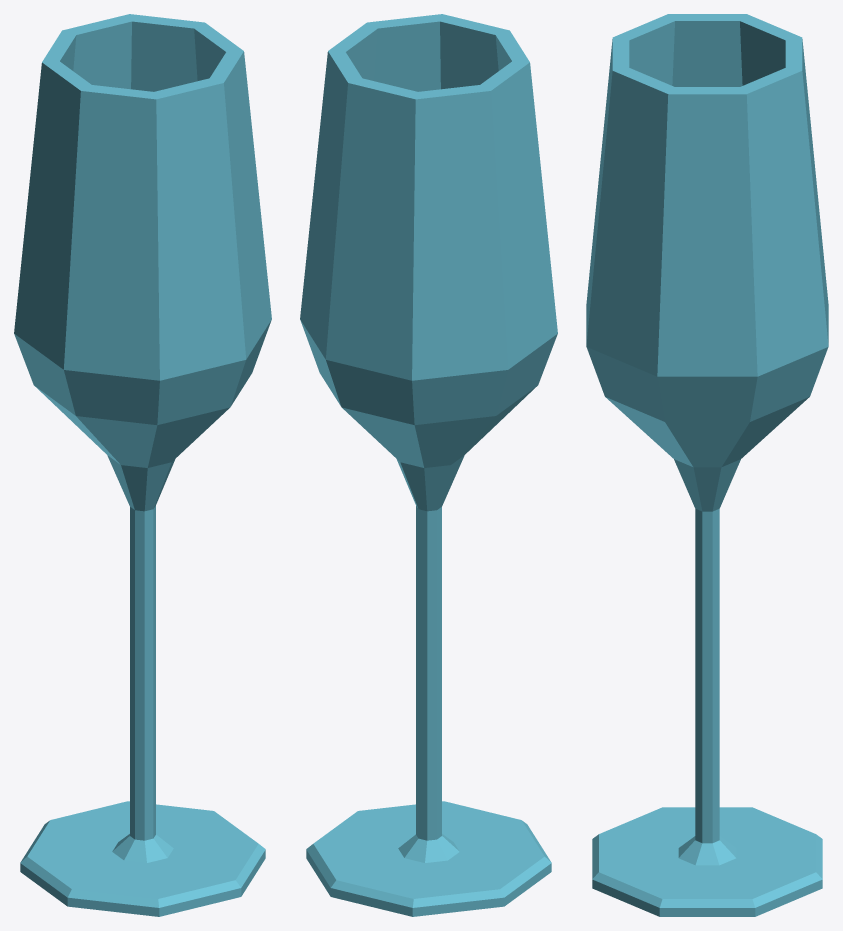
File: Wine Glass.fbx
3 views of the same model, side by side, from view 1: azimuth 30°, elevation 25°; view 2: azimuth 150°, elevation 25°; view 3: azimuth 270°, elevation 25° (orthographic).
Visible parts, largest first — view 1: Body1; view 2: Body1; view 3: Body1.
Part boxes in pixels (left/top/right/bottom): Body1: left=14, top=14, right=271, bottom=916; Body1: left=300, top=14, right=557, bottom=916; Body1: left=586, top=14, right=828, bottom=916.
Bounding box in the file's own units: 72.78 × 270 × 72.78.
